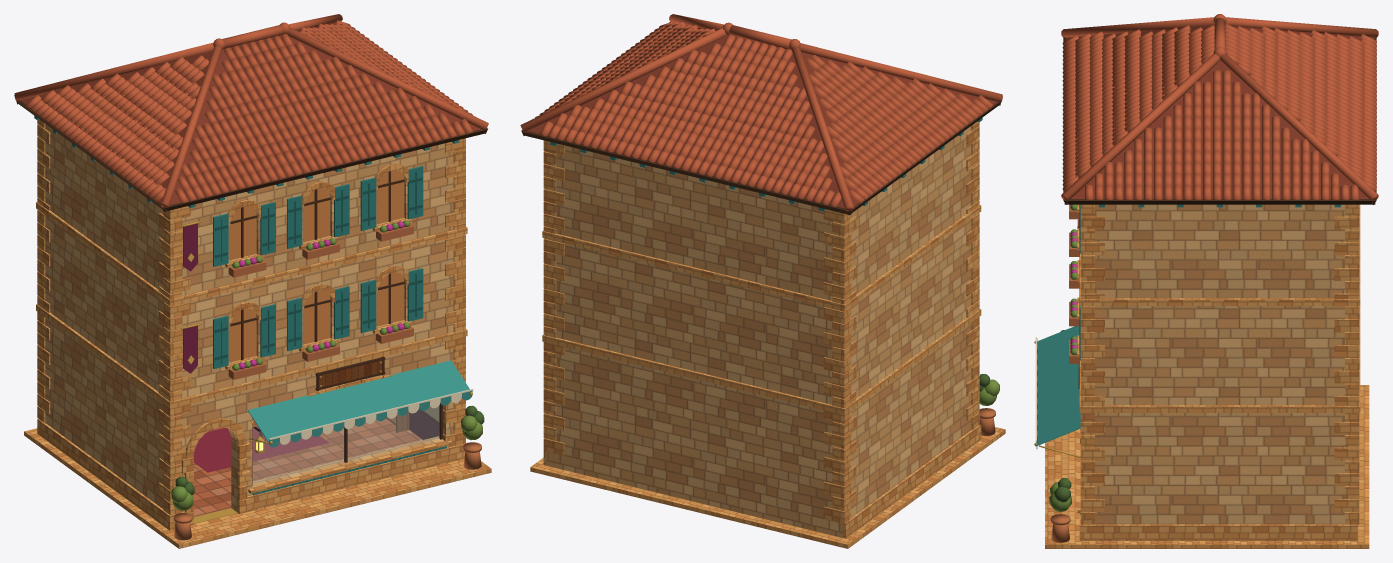
The model's file is house_large_awning.glb.
The picture shows the model from 3 angles, left to right: view 1: azimuth 30°, elevation 25°; view 2: azimuth 150°, elevation 25°; view 3: azimuth 270°, elevation 25°; orthographic projection. The views are drawn at different scales.
Visible parts, largest first — view 1: exterior_walls, roof_tiles, exterior_trim, windows, roof_structure, opt_awning, interior_floor, planters, door_frame, facade_details, sign_board, interior_walls; view 2: exterior_walls, roof_tiles, exterior_trim, roof_structure, planters; view 3: exterior_walls, roof_tiles, exterior_trim, roof_structure, opt_awning, planters.
Part boxes in pixels (x1=…): exterior_walls: x1=45, y1=124, x2=453, y2=512; roof_tiles: x1=14, y1=14, x2=488, y2=207; exterior_trim: x1=24, y1=120, x2=491, y2=548; windows: x1=213, y1=166, x2=446, y2=495; roof_structure: x1=16, y1=23, x2=487, y2=211; opt_awning: x1=248, y1=360, x2=473, y2=447; interior_floor: x1=193, y1=418, x2=422, y2=516; planters: x1=171, y1=220, x2=484, y2=540; door_frame: x1=181, y1=418, x2=250, y2=525; facade_details: x1=181, y1=221, x2=201, y2=373; sign_board: x1=315, y1=356, x2=385, y2=390; interior_walls: x1=409, y1=406, x2=439, y2=439; exterior_walls: x1=546, y1=126, x2=971, y2=537; roof_tiles: x1=520, y1=14, x2=1002, y2=211; exterior_trim: x1=530, y1=121, x2=1005, y2=548; roof_structure: x1=521, y1=21, x2=1001, y2=215; planters: x1=979, y1=374, x2=999, y2=435; exterior_walls: x1=1095, y1=204, x2=1344, y2=524; roof_tiles: x1=1061, y1=14, x2=1378, y2=201; exterior_trim: x1=1045, y1=204, x2=1369, y2=548; roof_structure: x1=1063, y1=26, x2=1376, y2=207; opt_awning: x1=1034, y1=326, x2=1080, y2=457; planters: x1=1049, y1=204, x2=1079, y2=542.
Size of the model in its own units: 10.07 by 12.29 by 8.75.
Materials: 26 (5 with a texture image).
